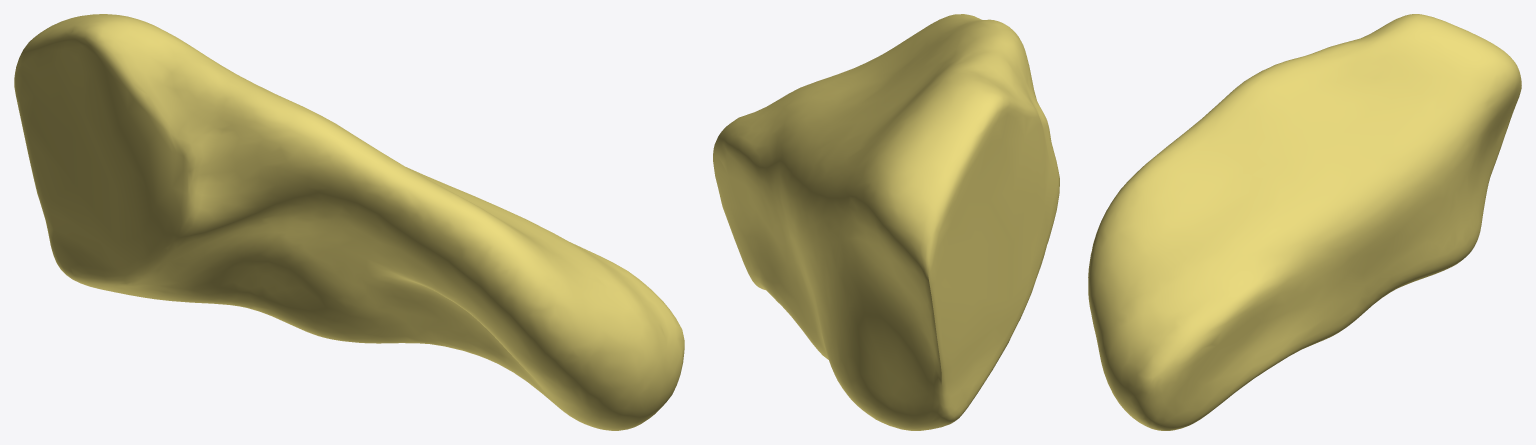
The model's file is anterior-quadrangular-lobule-l.glb.
3 renders of one model, left to right at view 1: azimuth 30°, elevation 25°; view 2: azimuth 150°, elevation 25°; view 3: azimuth 270°, elevation 25°, orthographic. The views are drawn at different scales.
Visible parts, largest first — view 1: Anterior quadrangular lobule.l; view 2: Anterior quadrangular lobule.l; view 3: Anterior quadrangular lobule.l.
Boxes of the visible parts, box(x1,y1,x2,y2) form: Anterior quadrangular lobule.l: box(14, 14, 684, 430); Anterior quadrangular lobule.l: box(713, 14, 1059, 430); Anterior quadrangular lobule.l: box(1088, 14, 1521, 430).
Bounding box in the file's own units: 0.0305 × 0.0251 × 0.0348.
